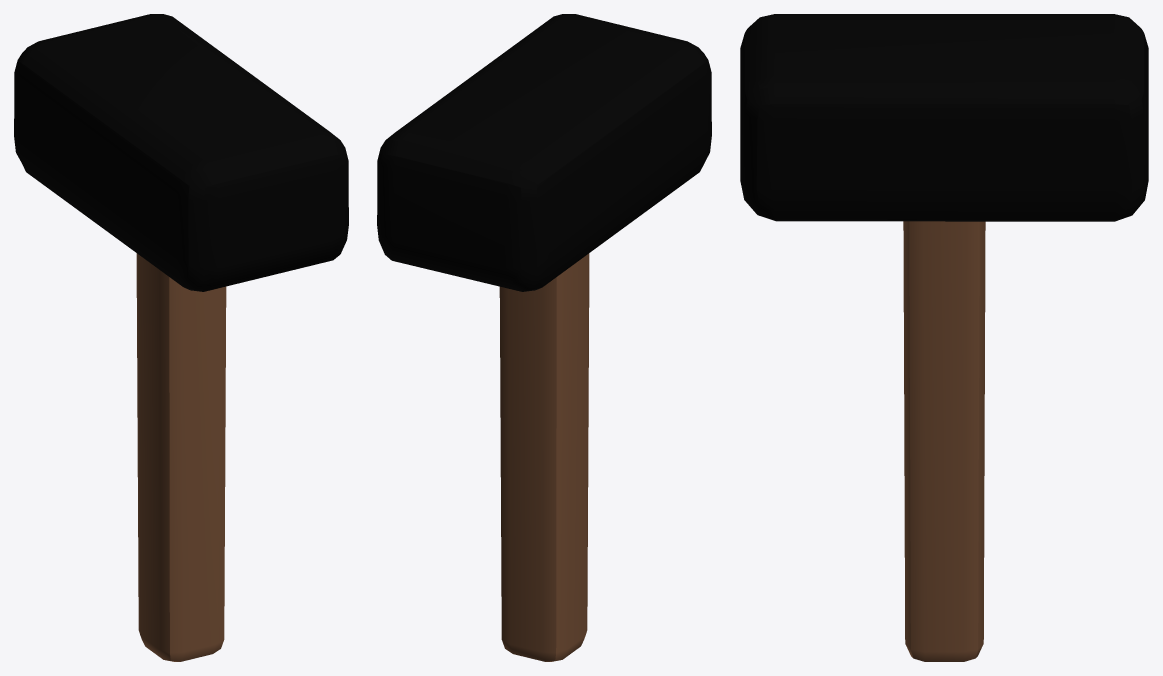
The model's file is P_Blacksmith_Hammer_1.fbx.
3 views of the same model, side by side, from view 1: azimuth 30°, elevation 25°; view 2: azimuth 150°, elevation 25°; view 3: azimuth 270°, elevation 25° (orthographic). The views are drawn at different scales.
Visible parts, largest first — view 1: pCube1; view 2: pCube1; view 3: pCube1.
Part boxes in pixels (x1,y1,x2,y2): pCube1: (14,14,348,661); pCube1: (377,14,711,661); pCube1: (740,14,1148,661).
Bounding box in the file's own units: 24.91 × 80.06 × 48.87.
